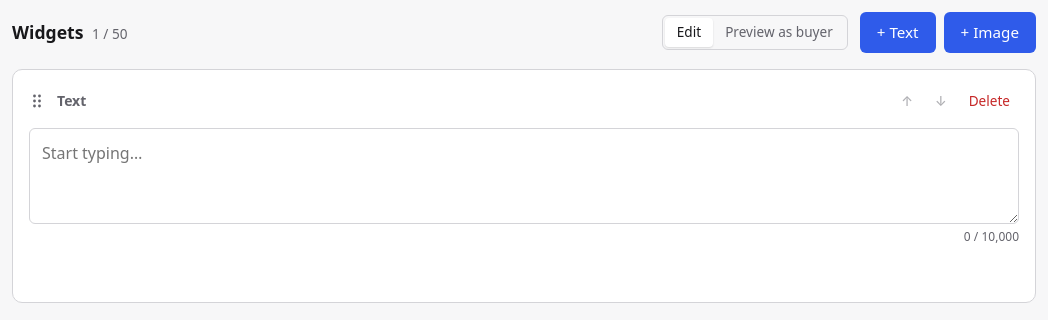
Test: WidgetBoard › text widgets › saves once when the user stops typing, not on every keystroke
This screenshot has width=1048, height=320.
Type "Hello world" into the text box named "Widget text" at (524,176), box [29, 128, 1019, 224]
Wait 1000 ms
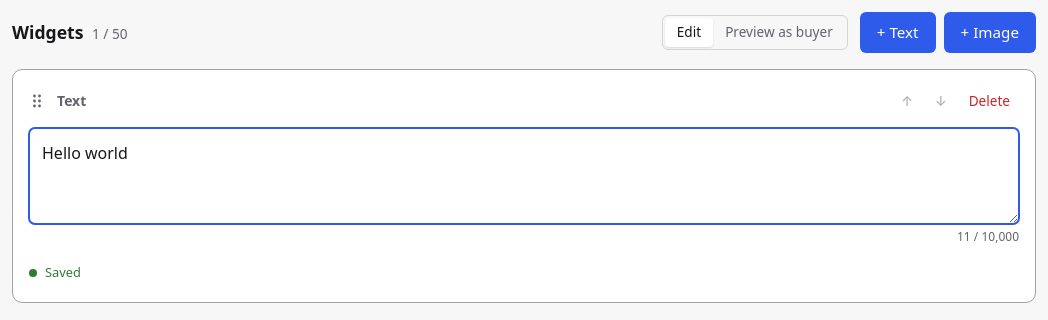
Expected: the text "Saved" is shown, [29, 263, 81, 282]
